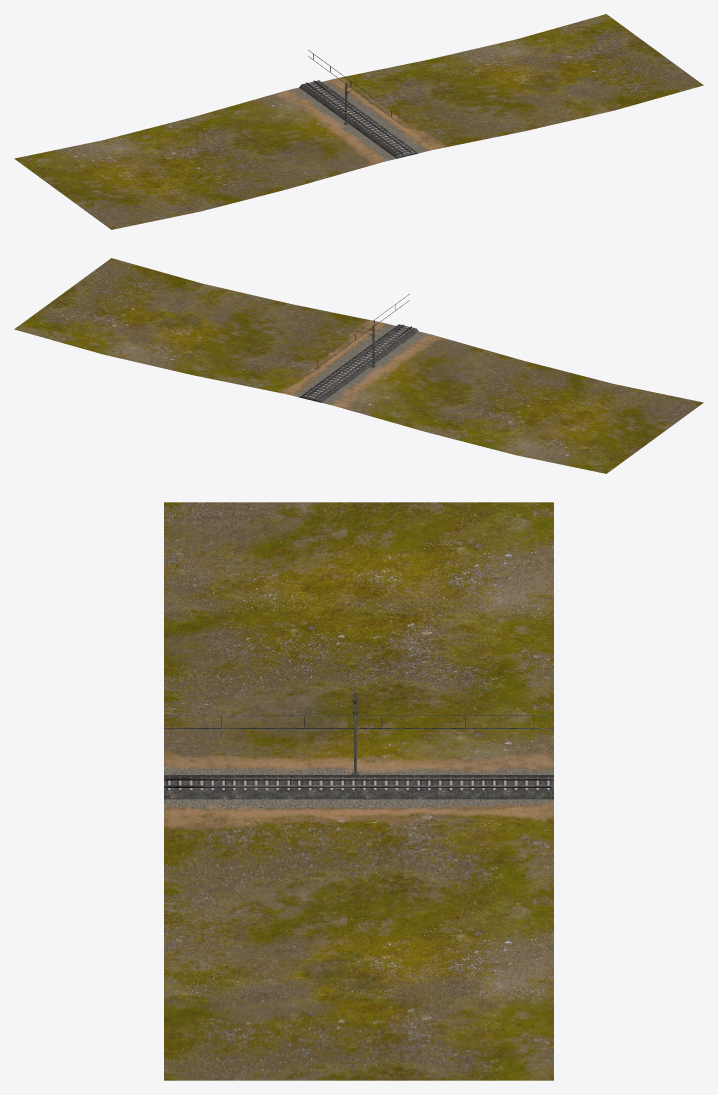
Rendered from terrain.glb.
The picture shows the model from 3 angles, top to bottom: view 1: azimuth 30°, elevation 25°; view 2: azimuth 150°, elevation 25°; view 3: azimuth 270°, elevation 25°; orthographic projection. The views are drawn at different scales.
Visible parts, largest first — view 1: Plane.004, 1Rails.003, 1Rails.004; view 2: Plane.004, 1Rails.003, 1Rails.004; view 3: Plane.004, 1Rails.003, 1Rails.004.
Part boxes in pixels (<box>): Plane.004: <box>14,14,703,229</box>; 1Rails.003: <box>299,80,418,158</box>; 1Rails.004: <box>306,80,411,154</box>; Plane.004: <box>14,258,703,473</box>; 1Rails.003: <box>299,324,418,402</box>; 1Rails.004: <box>306,324,411,398</box>; Plane.004: <box>164,502,553,1080</box>; 1Rails.003: <box>164,775,553,799</box>; 1Rails.004: <box>164,777,553,787</box>.
Size of the model in its own units: 14389 by 1077 by 4102.
3 materials, 3 textured.
